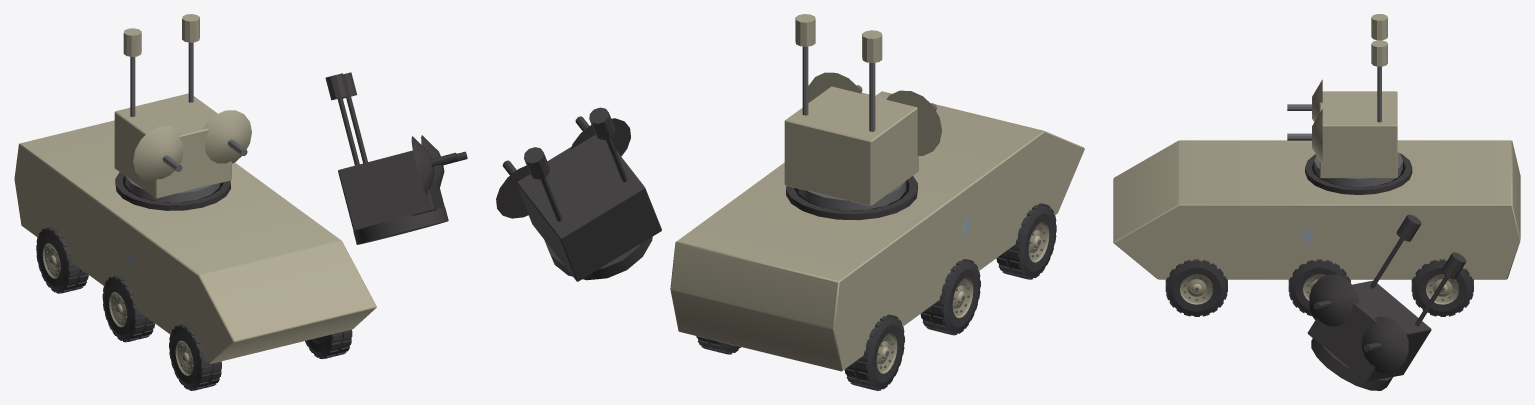
File: ewVehicle__fuchs_cg20_suas.glb
3 renders of one model, left to right at view 1: azimuth 30°, elevation 25°; view 2: azimuth 150°, elevation 25°; view 3: azimuth 270°, elevation 25°, orthographic. The views are drawn at different scales.
Visible parts, largest first — view 1: Hull_Mesh, Wreck, Turret_Mesh, Gun_Mesh, Wheel_L2_Mesh, Wheel_L0_Mesh, Wheel_L1_Mesh, Wheel_R2_Mesh; view 2: Hull_Mesh, Wreck, Turret_Mesh, Wheel_L0_Mesh, Wheel_L1_Mesh, Wheel_L2_Mesh, Gun_Mesh; view 3: Hull_Mesh, Wreck, Turret_Mesh, Wheel_R2_Mesh, Wheel_R0_Mesh, Wheel_R1_Mesh, Gun_Mesh.
Part boxes in pixels (x1,y1,x2,y2): Hull_Mesh: (14, 120, 376, 363); Wreck: (43, 72, 467, 339); Turret_Mesh: (114, 14, 231, 202); Gun_Mesh: (133, 110, 251, 182); Wheel_L2_Mesh: (169, 324, 221, 390); Wheel_L0_Mesh: (36, 227, 88, 293); Wheel_L1_Mesh: (102, 275, 154, 342); Wheel_R2_Mesh: (305, 329, 352, 359); Hull_Mesh: (670, 91, 1084, 371); Wreck: (496, 107, 1036, 388); Turret_Mesh: (784, 14, 918, 210); Wheel_L0_Mesh: (844, 314, 904, 390); Wheel_L1_Mesh: (920, 259, 980, 335); Wheel_L2_Mesh: (996, 203, 1056, 279); Gun_Mesh: (808, 72, 941, 155); Hull_Mesh: (1113, 140, 1520, 279); Wreck: (1184, 153, 1466, 390); Turret_Mesh: (1314, 14, 1402, 187); Wheel_R2_Mesh: (1165, 259, 1227, 316); Wheel_R0_Mesh: (1411, 259, 1473, 316); Wheel_R1_Mesh: (1288, 259, 1350, 315); Gun_Mesh: (1287, 79, 1322, 165).
Size of what is drawn, in the model's own units: 6.71 by 4.65 by 6.78.
